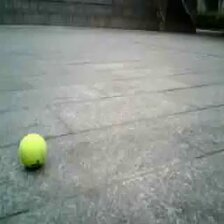tennis: (19, 133, 47, 166)
